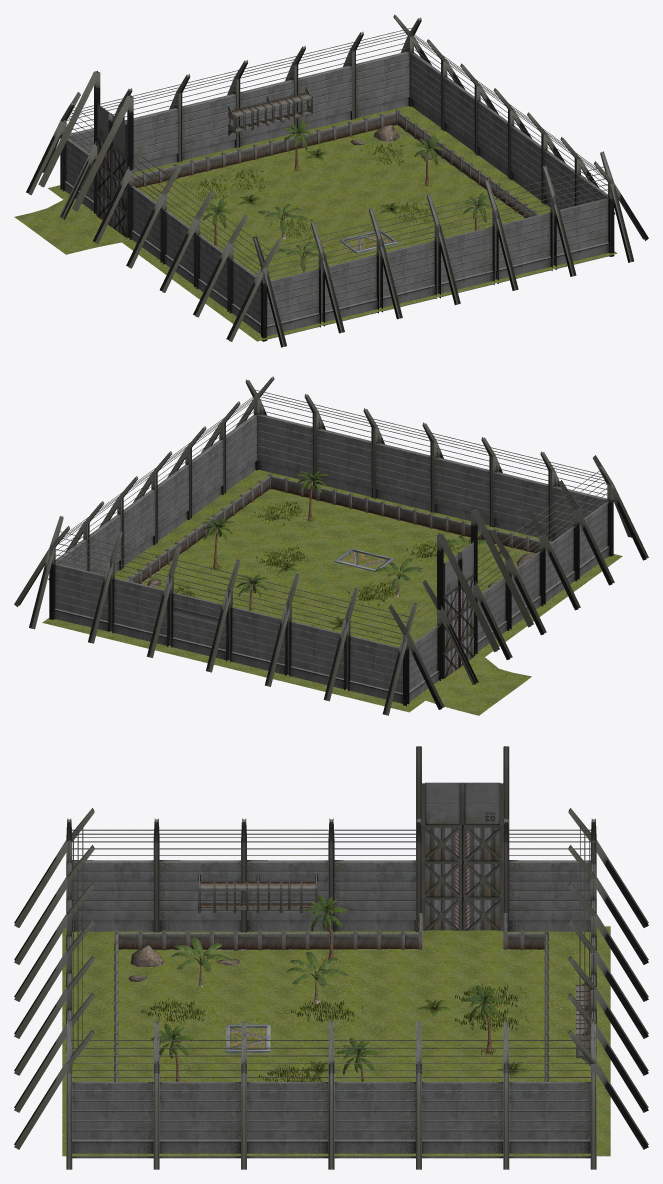
The picture shows the model from 3 angles, top to bottom: view 1: azimuth 30°, elevation 25°; view 2: azimuth 150°, elevation 25°; view 3: azimuth 270°, elevation 25°; orthographic projection. The views are drawn at different scales.
Parts seen in each view (by area): view 1: Mesh_0025_rip, Mesh_0050_rip, Mesh_0074_rip, Raised_Platform, Mesh_0034_rip2; view 2: Mesh_0025_rip, Mesh_0050_rip, Mesh_0074_rip, Raised_Platform, Mesh_0048_rip, Mesh_0001_rip, Mesh_0034_rip1, Mesh_0001_rip3, Mesh_0034_rip; view 3: Mesh_0025_rip, Mesh_0050_rip, Mesh_0074_rip, Raised_Platform, Mesh_0048_rip, Mesh_0048_rip1, Mesh_0034_rip2, Mesh_0034_rip3, Mesh_0031_rip1, Mesh_0034_rip1, Mesh_0001_rip, Mesh_0034_rip (+1 smaller).
Part boxes in pixels (bbox=[...]): Mesh_0025_rip: bbox=[26, 14, 648, 347]; Mesh_0050_rip: bbox=[14, 106, 617, 341]; Mesh_0074_rip: bbox=[133, 110, 538, 218]; Raised_Platform: bbox=[340, 230, 397, 253]; Mesh_0034_rip2: bbox=[284, 119, 312, 172]; Mesh_0025_rip: bbox=[14, 376, 648, 715]; Mesh_0050_rip: bbox=[42, 470, 622, 715]; Mesh_0074_rip: bbox=[126, 473, 539, 584]; Raised_Platform: bbox=[334, 548, 393, 572]; Mesh_0048_rip: bbox=[374, 558, 421, 596]; Mesh_0001_rip: bbox=[348, 582, 399, 605]; Mesh_0034_rip1: bbox=[202, 517, 233, 570]; Mesh_0001_rip3: bbox=[256, 547, 307, 571]; Mesh_0034_rip: bbox=[297, 470, 327, 522]; Mesh_0025_rip: bbox=[14, 746, 648, 1169]; Mesh_0050_rip: bbox=[62, 926, 610, 1156]; Mesh_0074_rip: bbox=[114, 913, 548, 1081]; Raised_Platform: bbox=[226, 1024, 270, 1053]; Mesh_0048_rip: bbox=[286, 951, 347, 1003]; Mesh_0048_rip1: bbox=[171, 936, 232, 987]; Mesh_0034_rip2: bbox=[462, 985, 505, 1055]; Mesh_0034_rip3: bbox=[304, 895, 347, 964]; Mesh_0031_rip1: bbox=[128, 945, 239, 981]; Mesh_0034_rip1: bbox=[336, 1037, 378, 1081]; Mesh_0001_rip: bbox=[291, 998, 365, 1026]; Mesh_0034_rip: bbox=[151, 1023, 193, 1081].
Bounding box in the file's own units: 82.58 × 30.38 × 78.13.
Materials: 8 (8 with a texture image).
